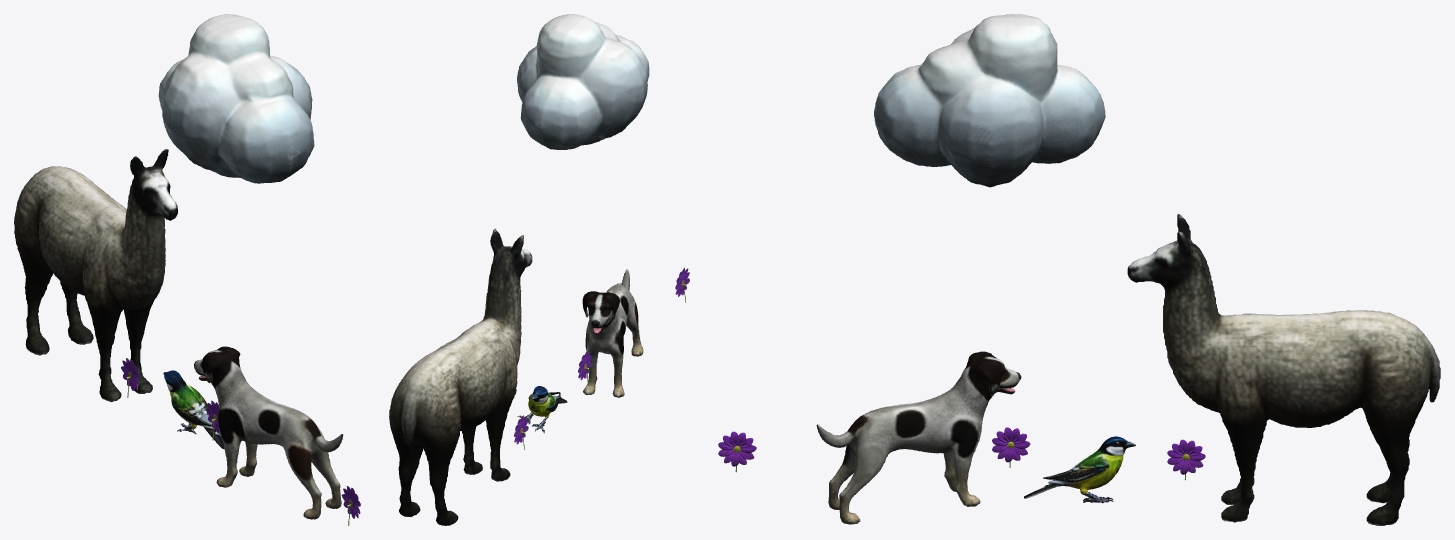
The model's file is llama2.glb.
3 renders of one model, left to right at view 1: azimuth 30°, elevation 25°; view 2: azimuth 150°, elevation 25°; view 3: azimuth 270°, elevation 25°, orthographic. The views are drawn at different scales.
Visible parts, largest first — view 1: Mesh_0.004, Mesh_0, Mesh_0.001, Mesh_0.002, Mesh_0.005, Mesh_0.006; view 2: Mesh_0.004, Mesh_0, Mesh_0.001, Mesh_0.002; view 3: Mesh_0.004, Mesh_0, Mesh_0.001, Mesh_0.002, Mesh_0.005, Mesh_0.003, Mesh_0.006.
Boxes of the visible parts, bbox=[...] form: Mesh_0.004: bbox=[14, 149, 177, 402]; Mesh_0: bbox=[158, 14, 314, 183]; Mesh_0.001: bbox=[194, 346, 343, 519]; Mesh_0.002: bbox=[163, 370, 224, 449]; Mesh_0.005: bbox=[341, 486, 360, 525]; Mesh_0.006: bbox=[121, 358, 139, 397]; Mesh_0.004: bbox=[389, 228, 532, 525]; Mesh_0: bbox=[517, 14, 649, 149]; Mesh_0.001: bbox=[582, 269, 643, 397]; Mesh_0.002: bbox=[517, 386, 567, 433]; Mesh_0.004: bbox=[1127, 214, 1440, 525]; Mesh_0: bbox=[874, 14, 1105, 187]; Mesh_0.001: bbox=[816, 351, 1021, 524]; Mesh_0.002: bbox=[1024, 436, 1135, 503]; Mesh_0.005: bbox=[718, 431, 756, 472]; Mesh_0.003: bbox=[992, 427, 1030, 467]; Mesh_0.006: bbox=[1167, 439, 1205, 480].
Size of the model in its own units: 11.2 by 34.72 by 46.08.
Materials: 5 (5 with a texture image).
